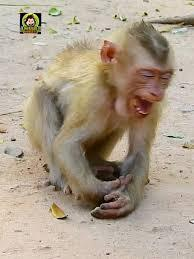fracture: (89, 148, 158, 227)
